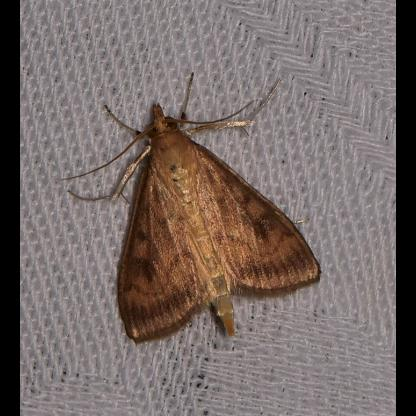Asian Corn Borer Moth: (58, 69, 326, 352)
